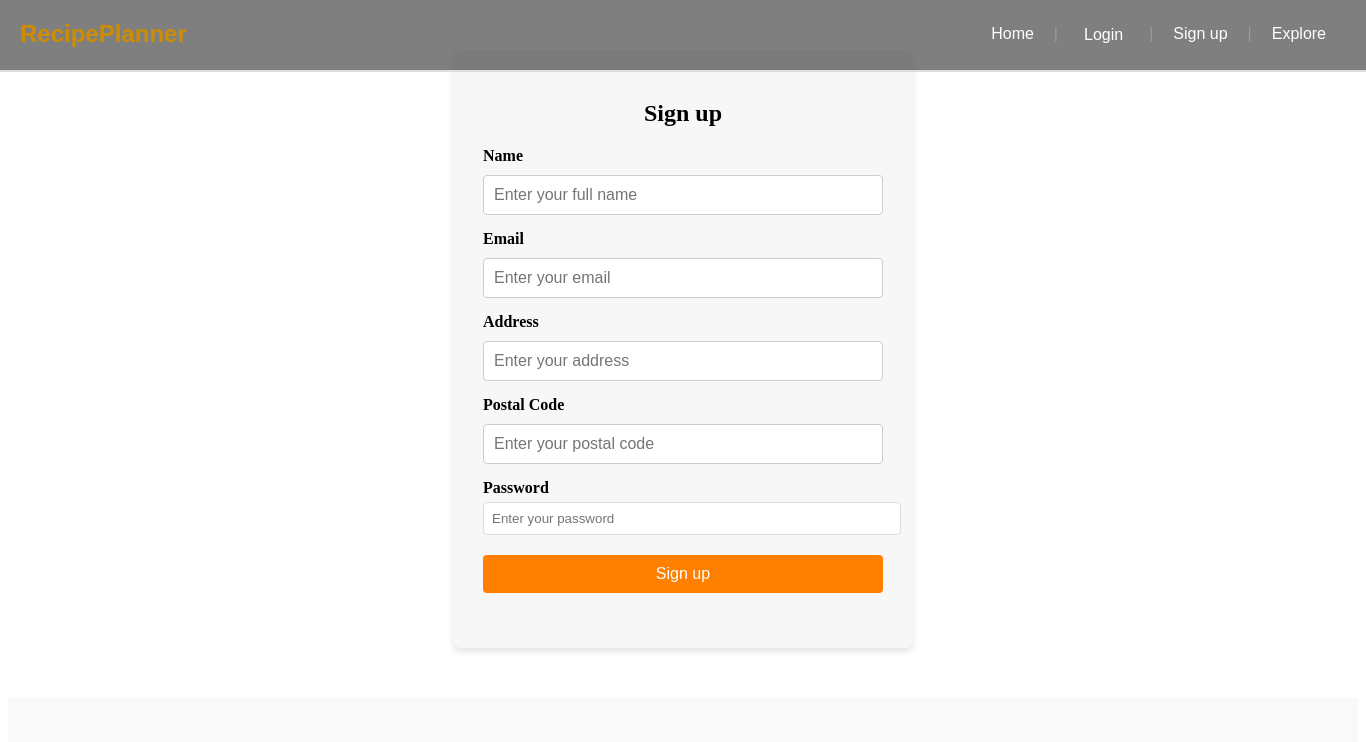
Test: SignUp E2E Test › should show validation errors for invalid inputs
Note: Attempt to submit an empty form
Click the submit button. click: coordinates (683, 574)
box: [483,555,883,593]
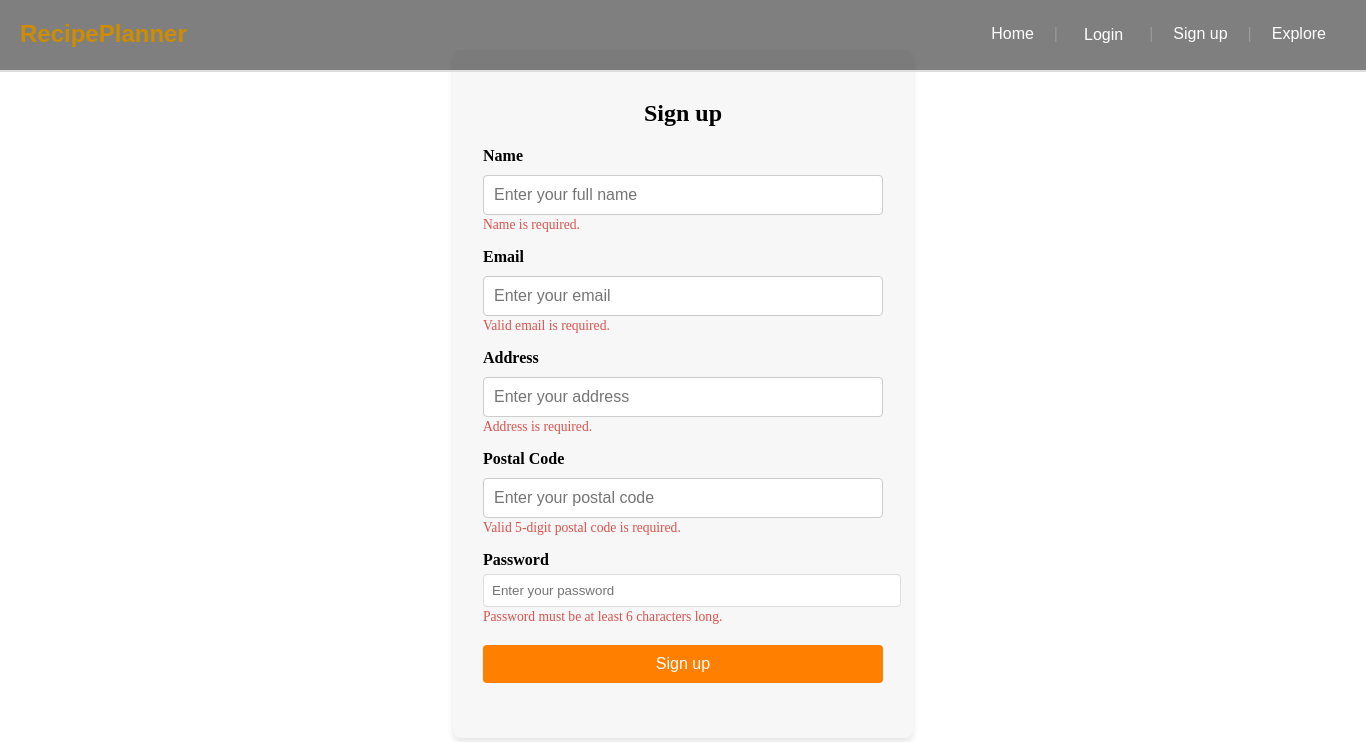
Expected: the text "Name is required." is shown, [483,217,580,232]
Expected: the text "Valid email is required." is shown, [483,318,610,333]
Expected: the text "Address is required." is shown, [483,419,592,434]
